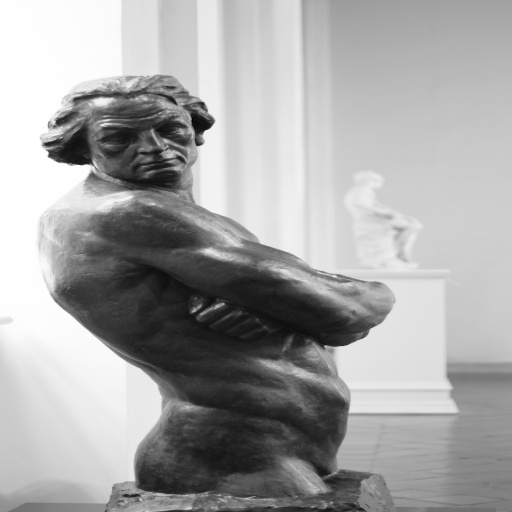hand: (180, 292, 285, 341)
